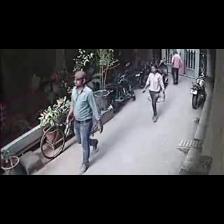person: (67, 71, 102, 174), (143, 64, 164, 122), (172, 50, 181, 84)
